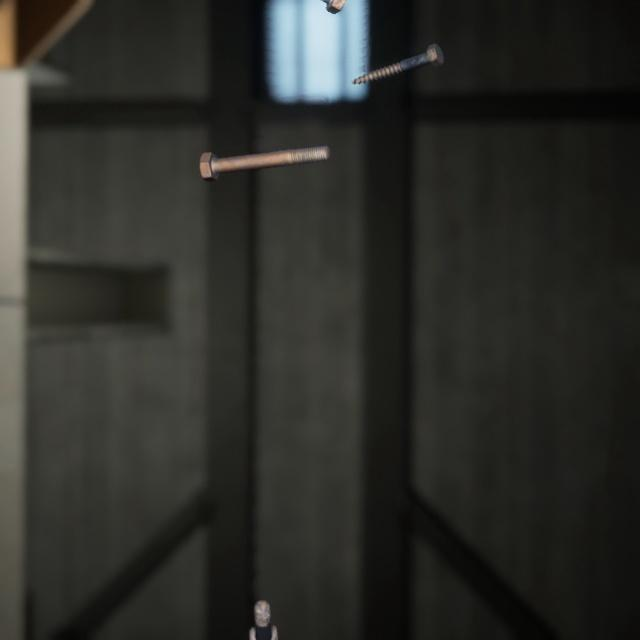bolt: (195, 127, 334, 171), (346, 29, 448, 80), (244, 570, 282, 634)
